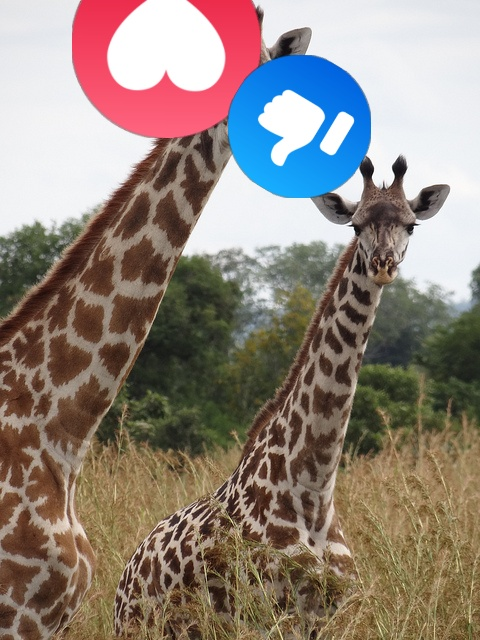like: (228, 55, 371, 198)
love: (72, 0, 261, 138)
